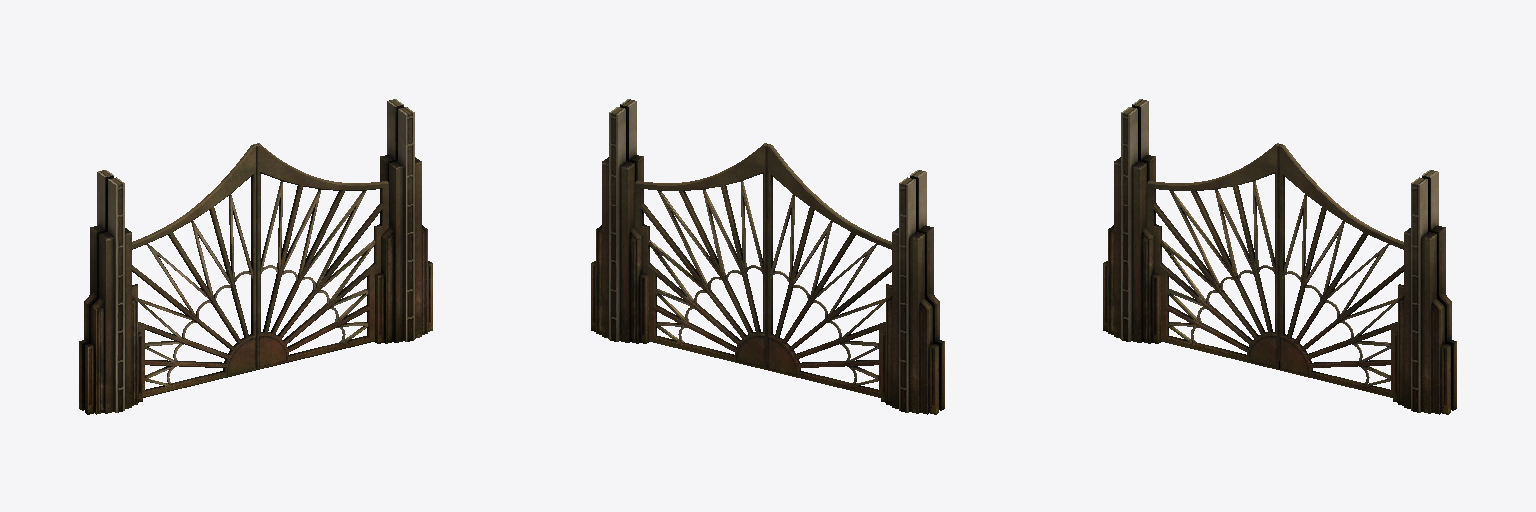
3 views of the same model, side by side, from view 1: azimuth 30°, elevation 25°; view 2: azimuth 150°, elevation 25°; view 3: azimuth 330°, elevation 25° (orthographic).
Visible parts, largest first — view 1: Gate_02; view 2: Gate_02; view 3: Gate_02.
Boxes of the visible parts, x1,y1,x2,y2 form: Gate_02: [79, 99, 432, 414]; Gate_02: [591, 99, 944, 414]; Gate_02: [1103, 99, 1456, 414].
Size of the model in its own units: 459 by 289 by 43.21.
1 materials, 1 textured.